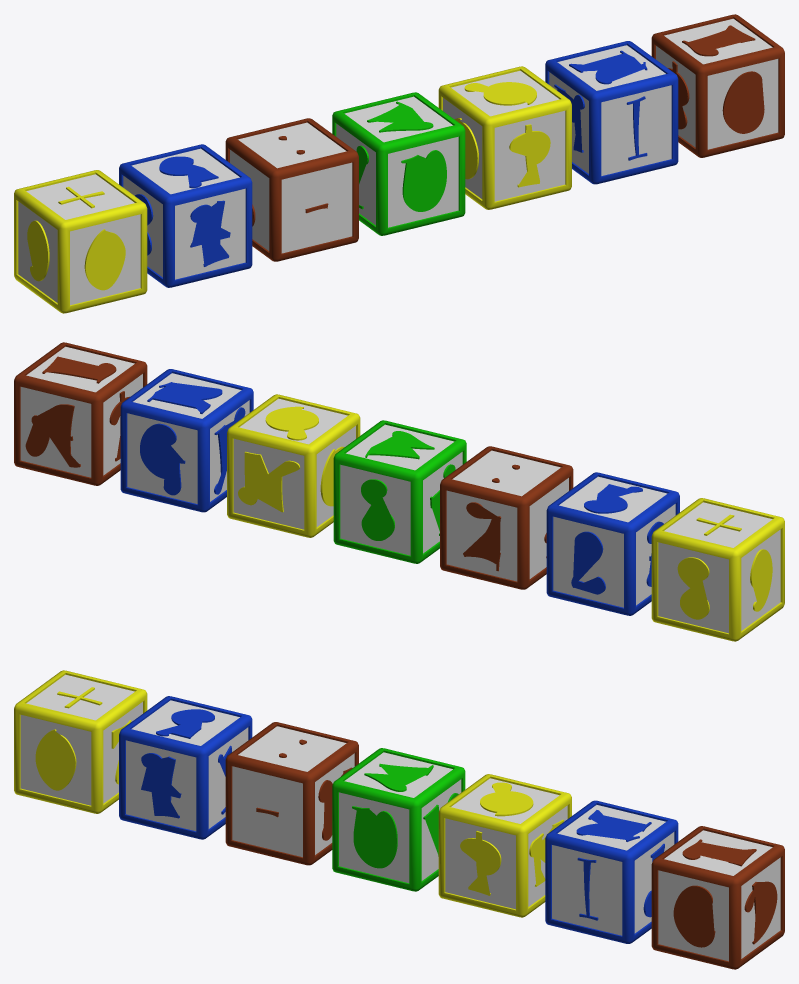
File: Baby Block.FBX
The picture shows the model from 3 angles, top to bottom: view 1: azimuth 30°, elevation 25°; view 2: azimuth 150°, elevation 25°; view 3: azimuth 330°, elevation 25°; orthographic projection.
Visible parts, largest first — view 1: baby block06, baby block, baby block18, baby block02, baby block03, baby block22, baby block05; view 2: baby block06, baby block, baby block18, baby block02, baby block03, baby block22, baby block05; view 3: baby block, baby block02, baby block18, baby block03, baby block05, baby block22, baby block06.
Part boxes in pixels (x1,y1,x2,y2): baby block06: (14,170,147,313); baby block: (651,14,784,157); baby block18: (225,118,358,261); baby block02: (438,66,571,209); baby block03: (332,92,465,235); baby block22: (545,41,678,184); baby block05: (119,144,252,287); baby block06: (651,498,784,641); baby block: (14,342,147,485); baby block18: (440,446,573,589); baby block02: (227,394,360,537); baby block03: (333,420,466,563); baby block22: (120,369,253,512); baby block05: (546,472,679,615); baby block: (651,826,784,969); baby block02: (438,774,571,917); baby block18: (225,722,358,865); baby block03: (332,748,465,891); baby block05: (119,696,252,839); baby block22: (545,800,678,943); baby block06: (14,670,147,813).
Bounding box in the file's own units: 83.28 × 10.07 × 10.
